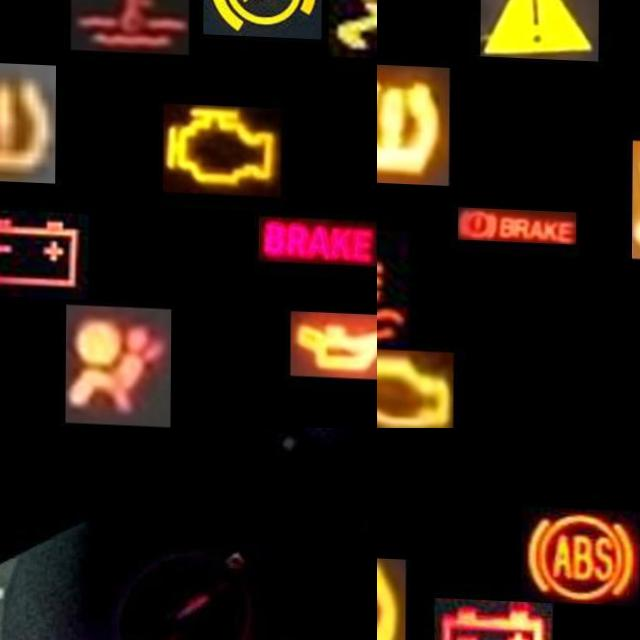Central Warning lamp: (480, 0, 599, 57)
Engine cooling system: (71, 0, 189, 52), (377, 225, 412, 347)
